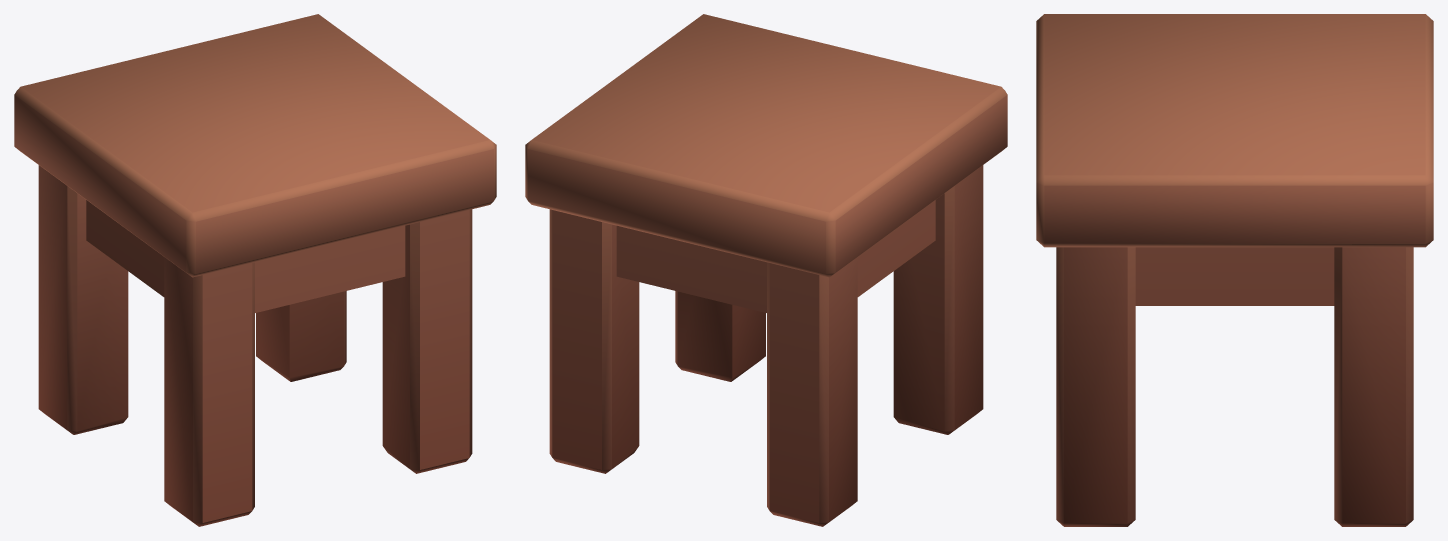
File: table_small.obj
3 views of the same model, side by side, from view 1: azimuth 30°, elevation 25°; view 2: azimuth 150°, elevation 25°; view 3: azimuth 270°, elevation 25° (orthographic). The views are drawn at different scales.
Visible parts, largest first — view 1: table_small_Cube.005; view 2: table_small_Cube.005; view 3: table_small_Cube.005.
Boxes of the visible parts, x1,y1,x2,y2 form: table_small_Cube.005: (14, 14, 496, 526); table_small_Cube.005: (525, 14, 1007, 526); table_small_Cube.005: (1036, 14, 1433, 526).
Bounding box in the file's own units: 1 × 1 × 1.
Materials: 1 (1 with a texture image).
